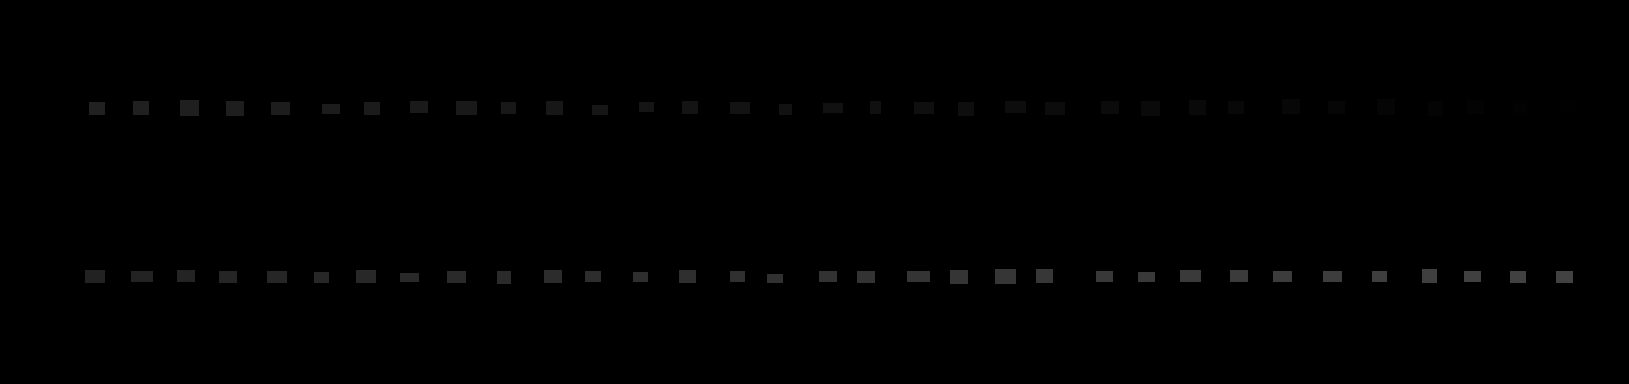light: (180, 100, 199, 116), (995, 269, 1016, 284), (1377, 99, 1395, 115), (1141, 101, 1160, 116), (456, 101, 477, 115), (1282, 99, 1300, 114), (1189, 100, 1206, 115), (226, 101, 244, 116), (1005, 101, 1026, 113), (950, 270, 968, 284), (1045, 102, 1065, 115), (85, 270, 105, 283), (356, 270, 376, 283), (907, 271, 930, 282), (1180, 270, 1201, 282), (1036, 269, 1053, 283), (271, 102, 290, 115), (131, 271, 153, 282), (914, 102, 934, 114), (730, 102, 750, 114), (267, 271, 287, 283), (447, 271, 466, 283), (1467, 100, 1484, 114), (958, 102, 974, 116), (546, 101, 563, 115), (1328, 101, 1345, 114), (1101, 101, 1119, 114), (544, 270, 562, 283), (177, 270, 195, 282), (1428, 101, 1443, 116), (133, 101, 149, 115), (1273, 271, 1292, 282), (1323, 271, 1342, 282), (682, 101, 698, 114), (364, 102, 380, 115), (679, 270, 696, 283), (410, 101, 428, 113), (219, 271, 237, 283), (857, 271, 875, 283), (1230, 270, 1248, 282), (819, 271, 837, 282), (1513, 101, 1527, 115), (1422, 269, 1437, 283), (1228, 101, 1244, 114), (89, 102, 105, 115), (1510, 271, 1526, 283), (1556, 271, 1573, 283), (823, 103, 843, 113), (1464, 271, 1481, 282), (497, 271, 511, 284), (501, 102, 516, 114), (1096, 271, 1113, 282), (322, 104, 340, 114), (1138, 272, 1155, 282), (1560, 101, 1575, 113), (314, 272, 329, 283), (585, 271, 600, 282), (400, 273, 419, 282), (730, 271, 745, 282), (1372, 271, 1387, 282), (639, 102, 655, 112), (592, 105, 608, 115), (633, 272, 648, 282), (767, 274, 783, 283), (870, 101, 881, 114), (779, 104, 792, 115)
